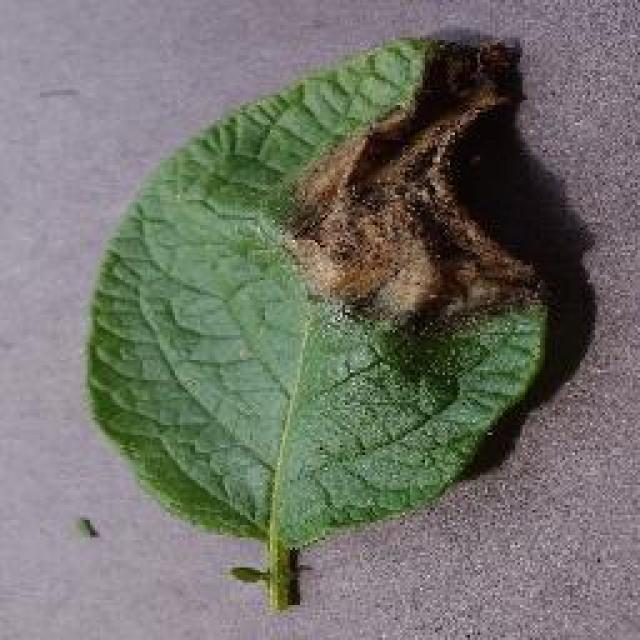Potato: (82, 30, 550, 610)
